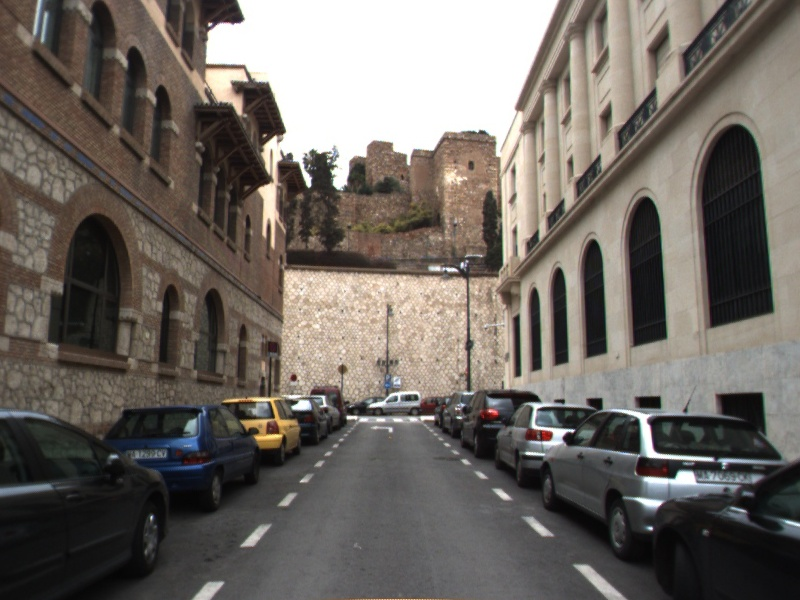LEFT: (369, 423, 396, 434)
